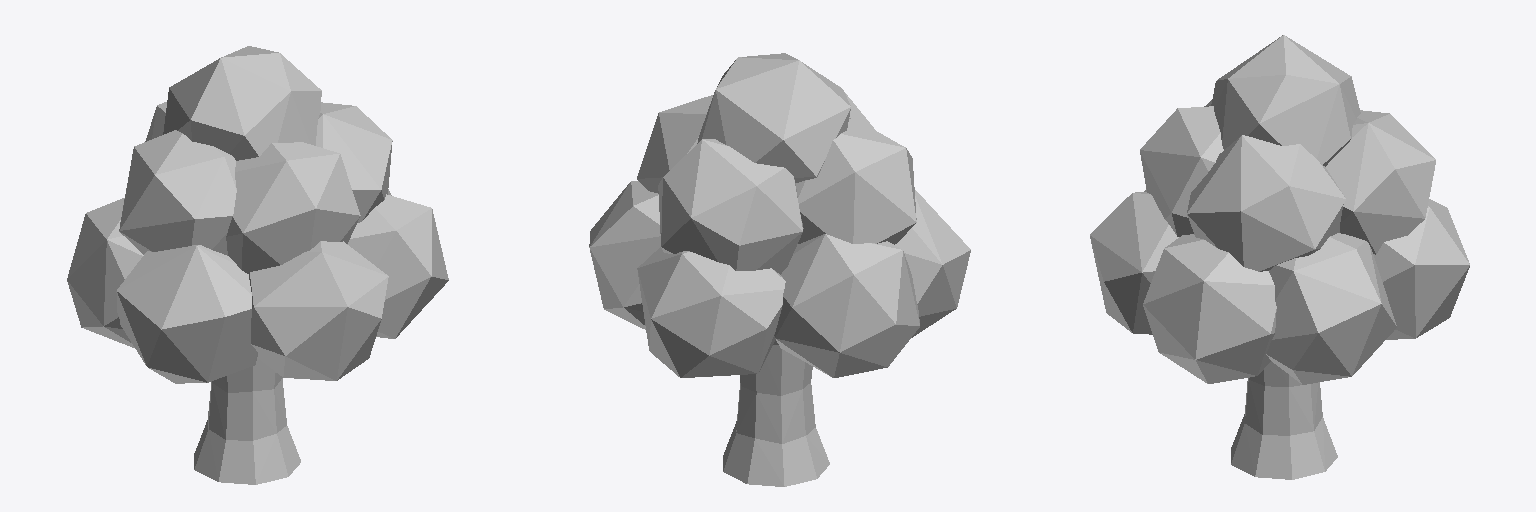
Rendered from Natures_Big Tree.obj.
3 renders of one model, left to right at view 1: azimuth 30°, elevation 25°; view 2: azimuth 150°, elevation 25°; view 3: azimuth 270°, elevation 25°, orthographic.
Parts seen in each view (by area): view 1: Natures_Big_Tree; view 2: Natures_Big_Tree; view 3: Natures_Big_Tree.
Boxes of the visible parts, x1,y1,x2,y2 form: Natures_Big_Tree: [67, 46, 448, 484]; Natures_Big_Tree: [589, 53, 970, 486]; Natures_Big_Tree: [1090, 35, 1469, 479].
Size of the model in its own units: 195 by 241 by 203.